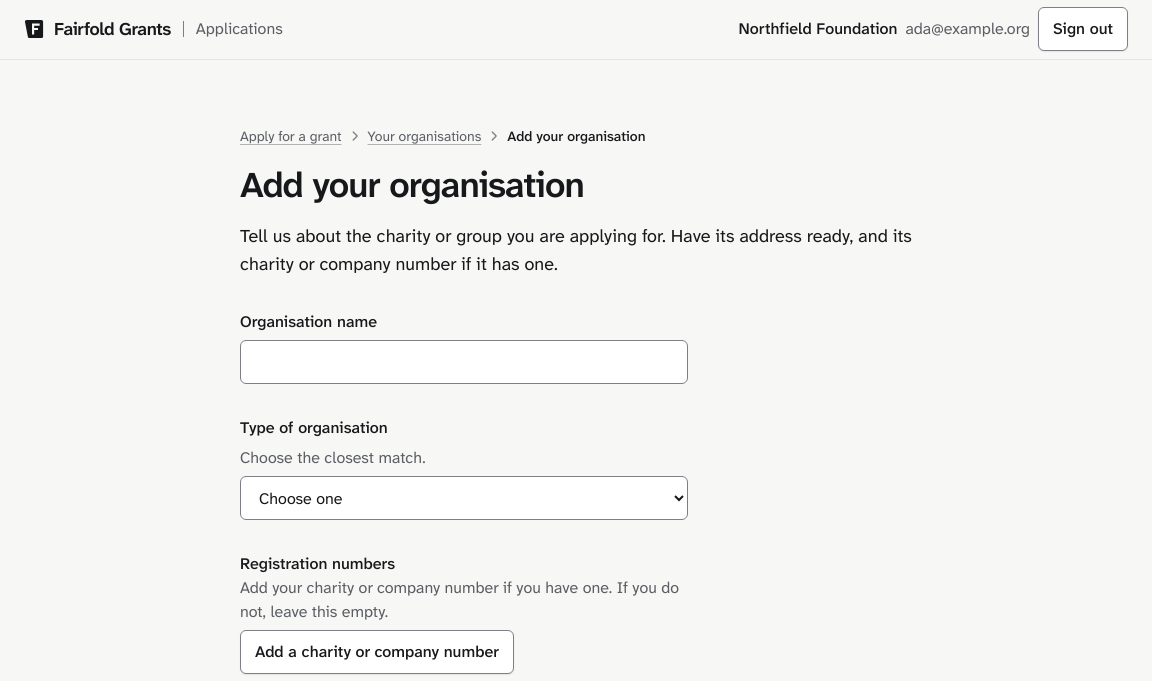
adding an organisation › keeps a number with the type it was given when another number is removed
Click the button "Add a charity or company number": [377, 652] box [240,630,514,674]
(page scrolled)
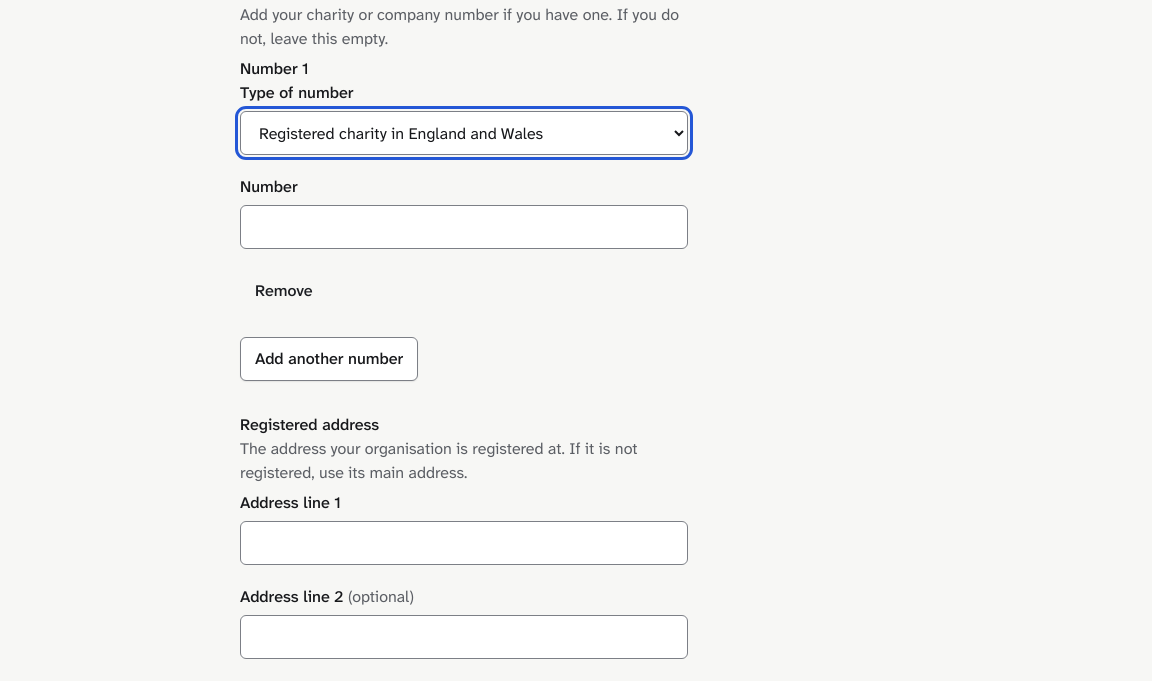
Click the button "Add another number": [329, 359] box [240,337,418,381]
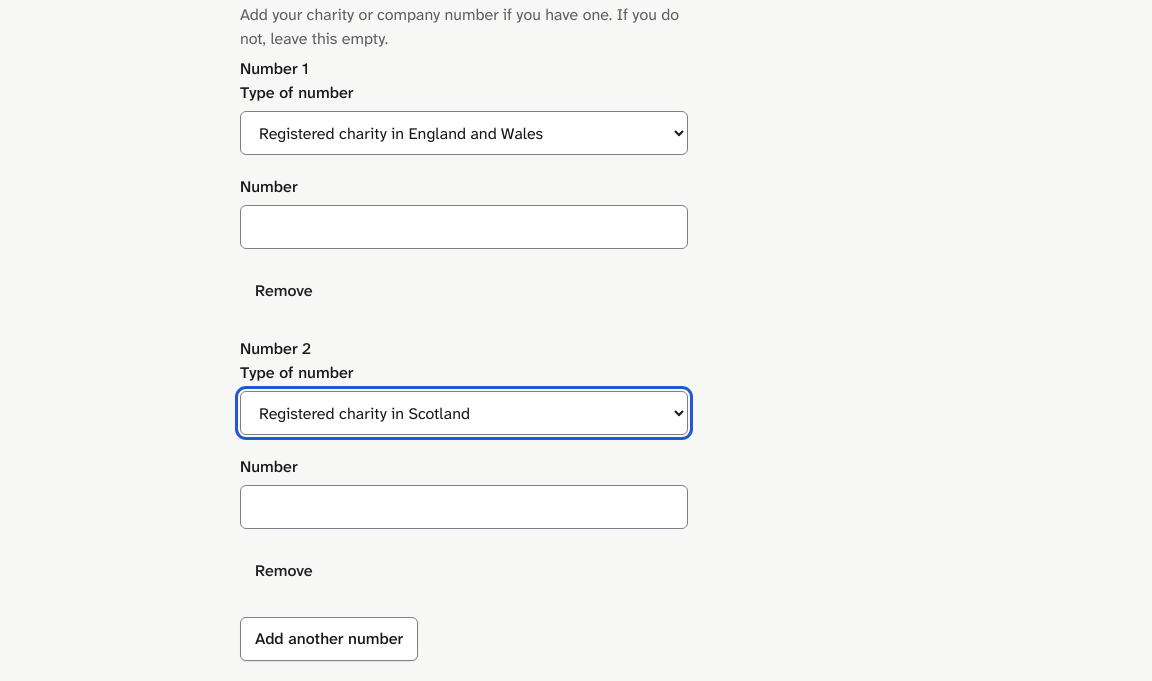
In the field labelled "Number" below "Number 2": [464, 507] box [240,485,688,529], type "SC012345"
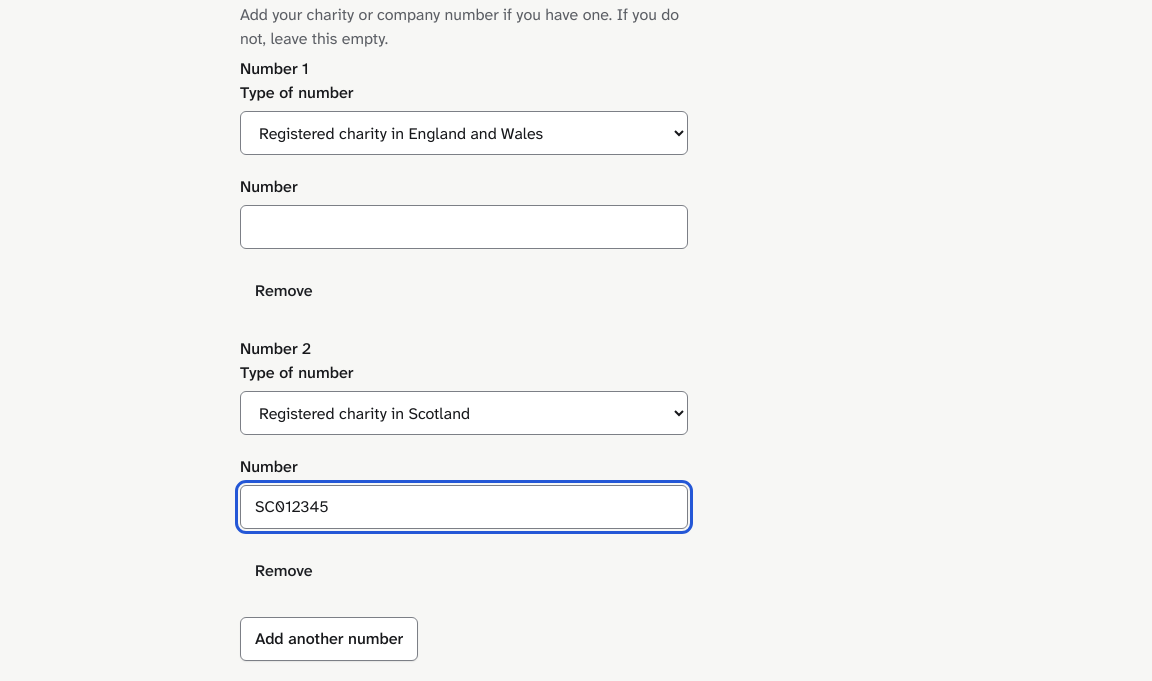
Click the button named "Remove number 1": [284, 291] box [240,269,328,313]
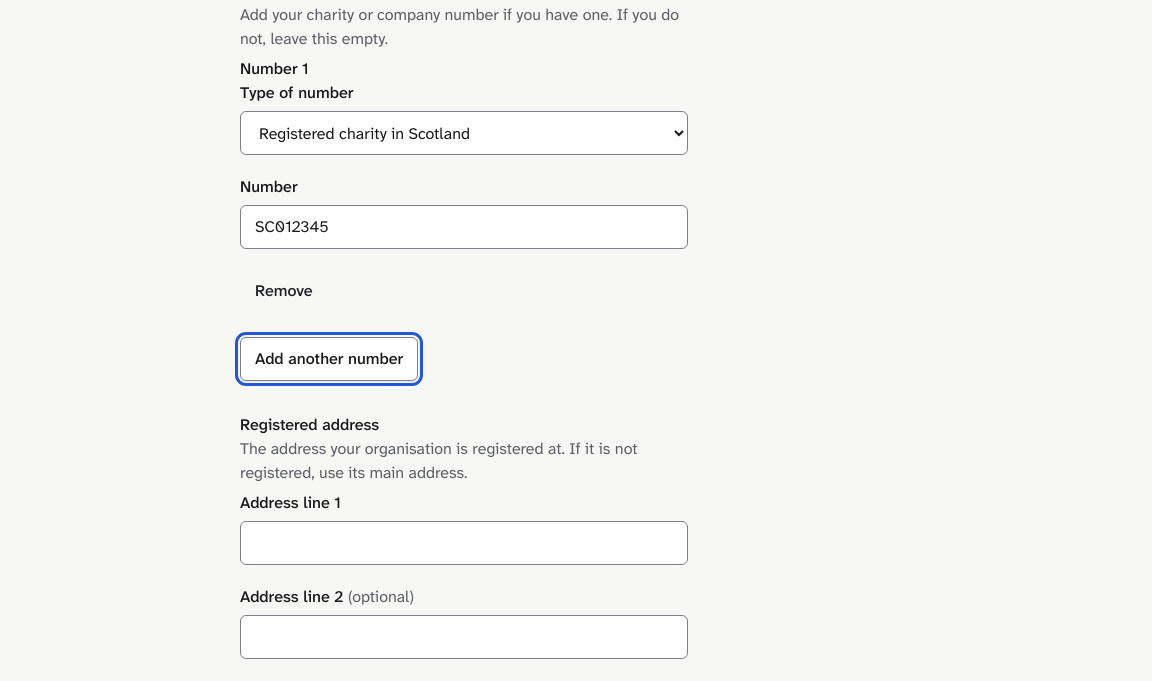
Now the dropdown shows "Registered charity in Scotland", box [240,111,688,155]
Now the field labelled "Number" holds "SC012345", box [240,205,688,249]
